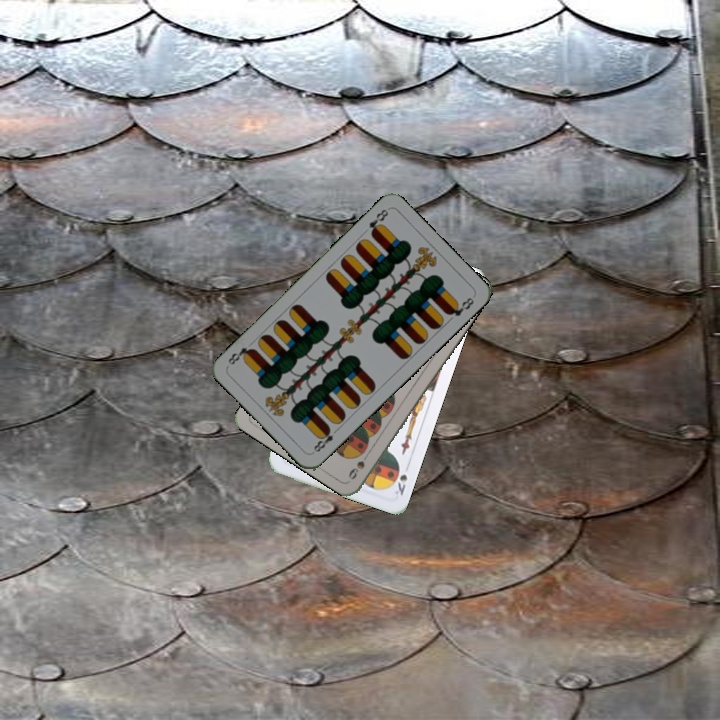E8: (310, 424, 341, 455), (365, 205, 391, 239)
S9: (344, 446, 373, 482)
SK: (391, 470, 410, 498)
